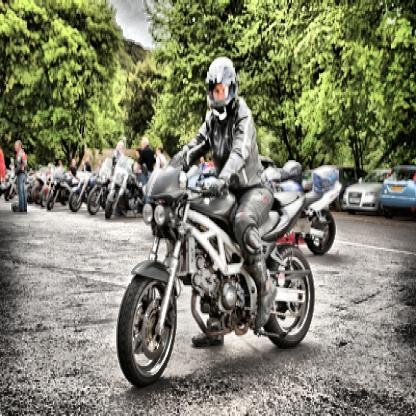wear: (205, 55, 237, 111)
